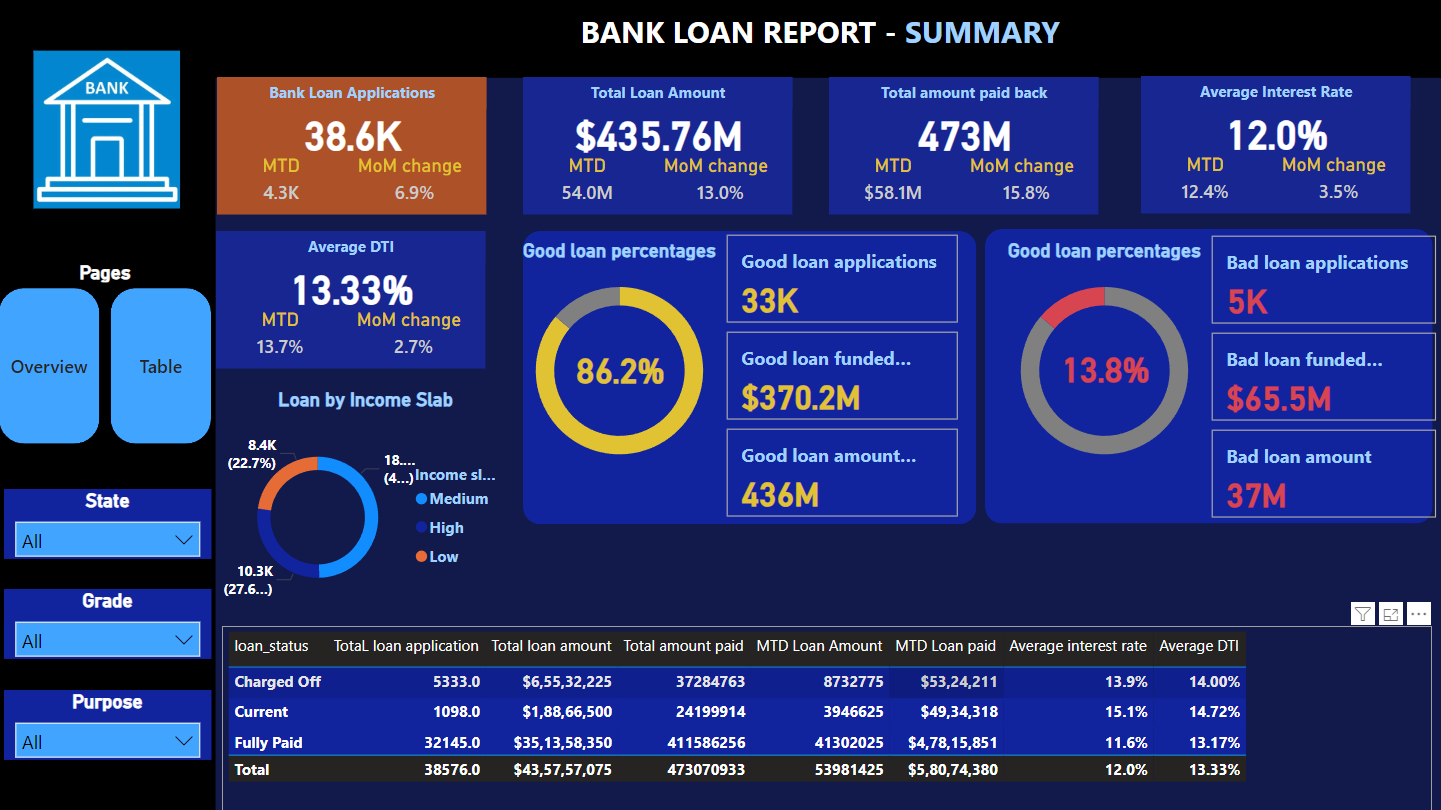

The dashboard page shown, as its layout file describes it:
{"tool":"powerbi","page":{"name":"Summary","canvas":[1280,720],"ordinal":0},"visuals":[{"type":"textbox","box":[0,0,1280,68.5],"z":0},{"type":"shape","box":[873.9,203.1,397,261.2],"z":1000},{"type":"textbox","box":[0,68.5,192,651.1],"z":2000},{"type":"shape","box":[1012.9,67.5,238.9,122],"z":3000,"group":"g4"},{"type":"shape","box":[193.5,68.5,238.9,122],"z":3000,"group":"g1"},{"type":"shape","box":[464.6,68.5,238.9,122],"z":3000,"group":"g2"},{"type":"shape","box":[735.7,68.5,238.9,122],"z":3000,"group":"g3"},{"type":"shape","box":[192.5,204.6,238.9,122],"z":3000,"group":"g5"},{"type":"donutChart","title":"Good loan percentages","fields":{"Category":["financial_loan.Good vs Bad loan"],"Y":["Measures (2).TotaL loan application"]},"box":[877.3,211.8,206.5,214.5],"z":3000},{"type":"textbox","box":[192.5,4,1071.4,60.5],"z":4000},{"type":"card","fields":{"Values":["Measures (2).Average interest rate"]},"box":[1016.9,85.6,231.8,63.5],"z":4000,"group":"g4"},{"type":"card","fields":{"Values":["Measures (2).TotaL loan application"]},"box":[197.5,86.6,231.8,63.5],"z":4000,"group":"g1"},{"type":"card","fields":{"Values":["Measures (2).Total loan amount"]},"box":[468.6,86.6,231.8,63.5],"z":4000,"group":"g2"},{"type":"card","fields":{"Values":["Measures (2).Total amount paid"]},"box":[739.7,86.6,231.8,63.5],"z":4000,"group":"g3"},{"type":"card","fields":{"Values":["Measures (2).Average DTI"]},"box":[196.5,222.7,231.8,63.5],"z":4000,"group":"g5"},{"type":"textbox","box":[1013.9,67.5,237.9,28.2],"z":5000,"group":"g4"},{"type":"textbox","box":[194.5,68.5,237.9,28.2],"z":5000,"group":"g1"},{"type":"textbox","box":[465.6,68.5,237.9,28.2],"z":5000,"group":"g2"},{"type":"textbox","box":[736.7,68.5,237.9,28.2],"z":5000,"group":"g3"},{"type":"textbox","box":[193.5,204.6,237.9,28.2],"z":5000,"group":"g5"},{"type":"card","fields":{"Values":["Measures (2).Bad Loan %"]},"box":[766.6,284.8,427.8,82.1],"z":5000},{"type":"group","id":"g1","title":"Group 1","box":[193.5,68.5,238.9,122],"z":6000},{"type":"card","title":"MTD","fields":{"Values":["Date Table.MTD avg int"]},"box":[1016.9,136,104.8,53.4],"z":6000,"group":"g4"},{"type":"card","title":"MTD","fields":{"Values":["Date Table.MTD Loan Application"]},"box":[197.5,137,104.8,53.4],"z":6000,"group":"g1"},{"type":"card","title":"MTD","fields":{"Values":["Date Table.MTD Loan Amount"]},"box":[468.6,137,104.8,53.4],"z":6000,"group":"g2"},{"type":"card","title":"MTD","fields":{"Values":["Date Table.MTD Loan paid"]},"box":[739.7,137,104.8,53.4],"z":6000,"group":"g3"},{"type":"card","title":"MTD","fields":{"Values":["Date Table.MTD DTI"]},"box":[196.5,273.1,104.8,53.4],"z":6000,"group":"g5"},{"type":"card","title":"MoM change","fields":{"Values":["Date Table.MoM avvg int"]},"box":[1132.8,136,110.9,53.4],"z":7000,"group":"g4"},{"type":"card","title":"MoM change","fields":{"Values":["Date Table.MoM loan application"]},"box":[313.4,137,110.9,53.4],"z":7000,"group":"g1"},{"type":"card","title":"MoM change","fields":{"Values":["Date Table.MoM loan amount"]},"box":[584.5,137,110.9,53.4],"z":7000,"group":"g2"},{"type":"card","title":"MoM change","fields":{"Values":["Date Table.MoM amount paid"]},"box":[855.6,137,110.9,53.4],"z":7000,"group":"g3"},{"type":"cardVisual","fields":{"Data":["Measures (2).Bad loan applications","Measures (2).Bad loan funded amount","Measures (2).Bad loan amount"]},"box":[1070.1,204.2,209.9,260.1],"z":7000},{"type":"card","title":"MoM change","fields":{"Values":["Date Table.MoM DTI"]},"box":[312.4,273.1,110.9,53.4],"z":7000,"group":"g5"},{"type":"shape","box":[464.6,204.6,402.1,260],"z":8000},{"type":"group","id":"g2","title":"Group 1","box":[464.6,68.5,238.9,122],"z":9000},{"type":"group","id":"g3","title":"Group 1","box":[735.7,68.5,238.9,122],"z":10000},{"type":"group","id":"g4","title":"Group 1","box":[1012.9,67.5,239.9,122],"z":11000},{"type":"group","id":"g5","title":"Group 1","box":[192.5,204.6,238.9,122],"z":12000},{"type":"donutChart","title":"Good loan percentages","fields":{"Category":["financial_loan.Good vs Bad loan"],"Y":["Measures (2).TotaL loan application"]},"box":[447.2,212.2,206.5,214.5],"z":13000},{"type":"card","fields":{"Values":["Measures (2).Good Loan %"]},"box":[336.5,285.2,427.8,82.1],"z":14000},{"type":"cardVisual","fields":{"Data":["Measures (2).Good loan applications","Measures (2).Good loan funded amount","Measures (2).Good loan amount received"]},"box":[640,203.1,215.6,261.2],"z":15000},{"type":"tableEx","fields":{"Values":["financial_loan.loan_status","Measures (2).TotaL loan application","Measures (2).Total loan amount","Measures (2).Total amount paid","Date Table.MTD Loan Amount","Date Table.MTD Loan paid","Measures (2).Average interest rate","Measures (2).Average DTI"]},"box":[197.5,555.2,1073.2,164.9],"z":16000},{"type":"donutChart","title":"Loan by Income Slab","fields":{"Y":["Measures (2).TotaL loan application"],"Category":["financial_loan.Income slab"]},"box":[191.7,343.8,267.2,210.2],"z":17000},{"type":"slicer","title":"State","fields":{"Values":["financial_loan.address_state"]},"box":[4.6,433.2,183.5,61.6],"z":18000},{"type":"slicer","title":"Grade","fields":{"Values":["financial_loan.grade"]},"box":[4.6,522.7,183.5,61.6],"z":19000},{"type":"slicer","title":"Purpose","fields":{"Values":["financial_loan.purpose"]},"box":[4.6,612.1,183.5,61.6],"z":20000},{"type":"pageNavigator","title":"Pages","box":[0,231.1,188.2,162.6],"z":21000},{"type":"image","box":[11.6,39.5,168.4,149.8],"z":22000}]}

Visuals, with their boxes in screenshot pixels (x1, y1, x2, y2), scaled from the page's 1280x720 canvas onto the 1441x810 screenshot:
textbox: {"x1": 0, "y1": 0, "x2": 1440, "y2": 77}
shape: {"x1": 984, "y1": 228, "x2": 1431, "y2": 522}
textbox: {"x1": 0, "y1": 77, "x2": 216, "y2": 809}
shape: {"x1": 1140, "y1": 76, "x2": 1409, "y2": 213}
shape: {"x1": 218, "y1": 77, "x2": 487, "y2": 214}
shape: {"x1": 523, "y1": 77, "x2": 792, "y2": 214}
shape: {"x1": 828, "y1": 77, "x2": 1097, "y2": 214}
shape: {"x1": 217, "y1": 230, "x2": 486, "y2": 367}
"Good loan percentages" donutChart: {"x1": 988, "y1": 238, "x2": 1220, "y2": 480}
textbox: {"x1": 217, "y1": 4, "x2": 1423, "y2": 73}
card - Measures (2).Average interest rate: {"x1": 1145, "y1": 96, "x2": 1406, "y2": 168}
card - Measures (2).TotaL loan application: {"x1": 222, "y1": 97, "x2": 483, "y2": 169}
card - Measures (2).Total loan amount: {"x1": 528, "y1": 97, "x2": 788, "y2": 169}
card - Measures (2).Total amount paid: {"x1": 833, "y1": 97, "x2": 1094, "y2": 169}
card - Measures (2).Average DTI: {"x1": 221, "y1": 251, "x2": 482, "y2": 322}
textbox: {"x1": 1141, "y1": 76, "x2": 1409, "y2": 108}
textbox: {"x1": 219, "y1": 77, "x2": 487, "y2": 109}
textbox: {"x1": 524, "y1": 77, "x2": 792, "y2": 109}
textbox: {"x1": 829, "y1": 77, "x2": 1097, "y2": 109}
textbox: {"x1": 218, "y1": 230, "x2": 486, "y2": 262}
card - Measures (2).Bad Loan %: {"x1": 863, "y1": 320, "x2": 1345, "y2": 413}
"Group 1" group: {"x1": 218, "y1": 77, "x2": 487, "y2": 214}
"MTD" card: {"x1": 1145, "y1": 153, "x2": 1263, "y2": 213}
"MTD" card: {"x1": 222, "y1": 154, "x2": 340, "y2": 214}
"MTD" card: {"x1": 528, "y1": 154, "x2": 646, "y2": 214}
"MTD" card: {"x1": 833, "y1": 154, "x2": 951, "y2": 214}
"MTD" card: {"x1": 221, "y1": 307, "x2": 339, "y2": 367}
"MoM change" card: {"x1": 1275, "y1": 153, "x2": 1400, "y2": 213}
"MoM change" card: {"x1": 353, "y1": 154, "x2": 478, "y2": 214}
"MoM change" card: {"x1": 658, "y1": 154, "x2": 783, "y2": 214}
"MoM change" card: {"x1": 963, "y1": 154, "x2": 1088, "y2": 214}
cardVisual - Measures (2).Bad loan applications x Measures (2).Bad loan funded amount: {"x1": 1205, "y1": 230, "x2": 1440, "y2": 522}
"MoM change" card: {"x1": 352, "y1": 307, "x2": 477, "y2": 367}
shape: {"x1": 523, "y1": 230, "x2": 976, "y2": 523}
"Group 1" group: {"x1": 523, "y1": 77, "x2": 792, "y2": 214}
"Group 1" group: {"x1": 828, "y1": 77, "x2": 1097, "y2": 214}
"Group 1" group: {"x1": 1140, "y1": 76, "x2": 1410, "y2": 213}
"Group 1" group: {"x1": 217, "y1": 230, "x2": 486, "y2": 367}
"Good loan percentages" donutChart: {"x1": 503, "y1": 239, "x2": 736, "y2": 480}
card - Measures (2).Good Loan %: {"x1": 379, "y1": 321, "x2": 860, "y2": 413}
cardVisual - Measures (2).Good loan applications x Measures (2).Good loan funded amount: {"x1": 720, "y1": 228, "x2": 963, "y2": 522}
tableEx - financial_loan.loan_status x Measures (2).TotaL loan application: {"x1": 222, "y1": 625, "x2": 1431, "y2": 809}
"Loan by Income Slab" donutChart: {"x1": 216, "y1": 387, "x2": 517, "y2": 623}
"State" slicer: {"x1": 5, "y1": 487, "x2": 212, "y2": 557}
"Grade" slicer: {"x1": 5, "y1": 588, "x2": 212, "y2": 657}
"Purpose" slicer: {"x1": 5, "y1": 689, "x2": 212, "y2": 758}
"Pages" pageNavigator: {"x1": 0, "y1": 260, "x2": 212, "y2": 443}
image: {"x1": 13, "y1": 44, "x2": 203, "y2": 213}
